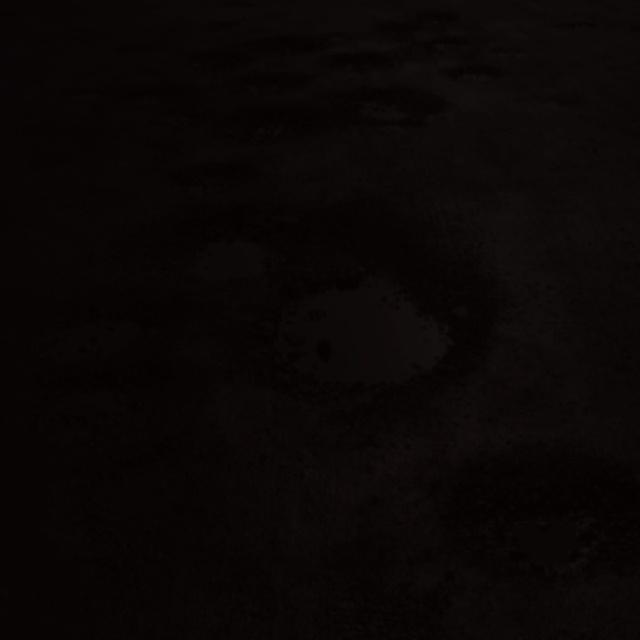Pothole: (275, 222, 474, 395), (470, 462, 611, 582), (29, 290, 155, 364), (67, 81, 212, 138), (174, 215, 284, 288), (50, 374, 160, 434), (352, 88, 452, 127), (215, 35, 344, 65), (179, 159, 265, 198), (232, 66, 332, 94), (334, 52, 418, 85), (238, 113, 311, 143), (420, 35, 492, 51), (459, 59, 508, 77), (407, 12, 462, 27)
